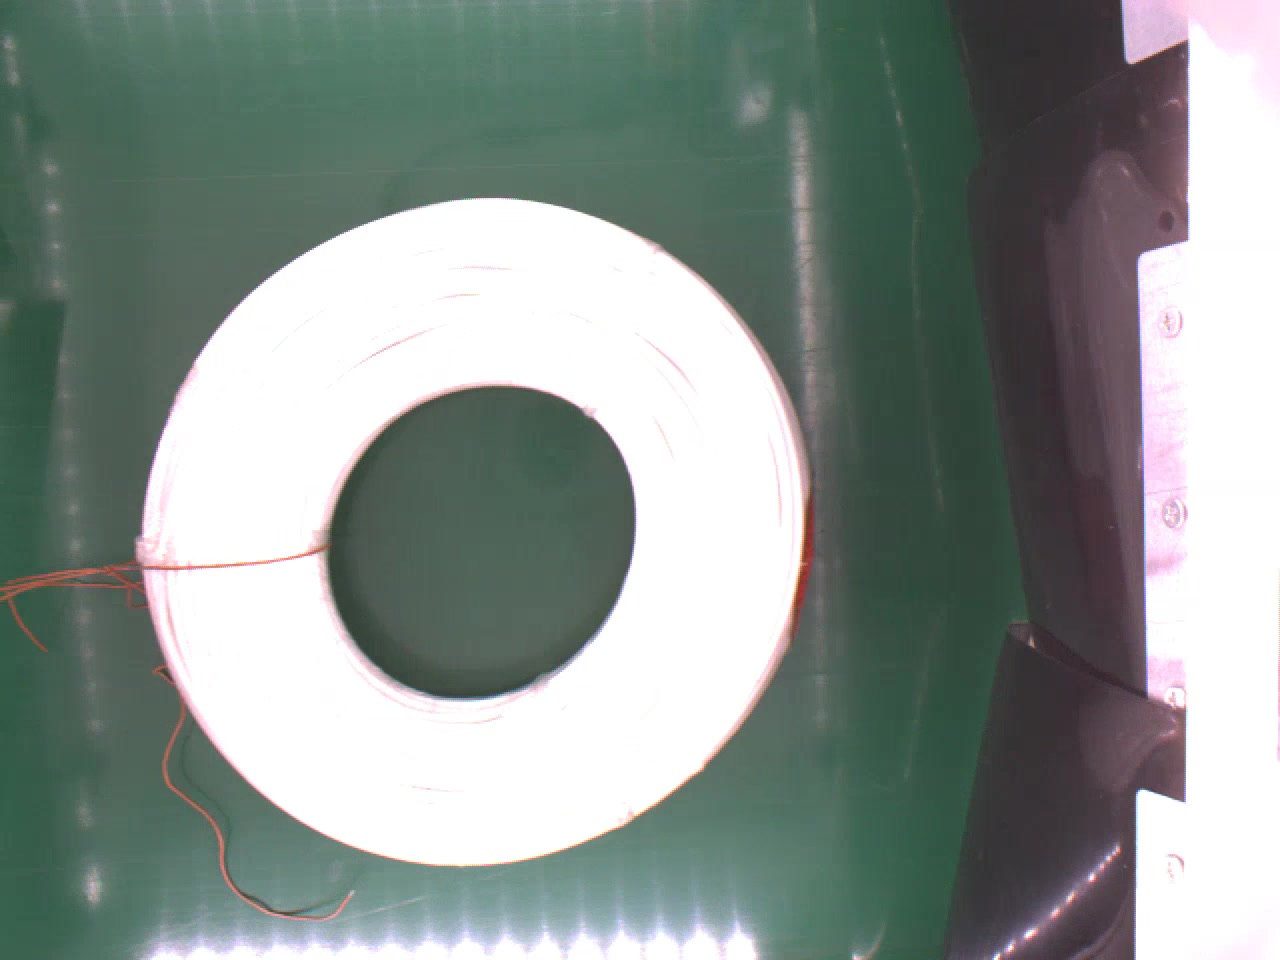white: (135, 198, 813, 869)
